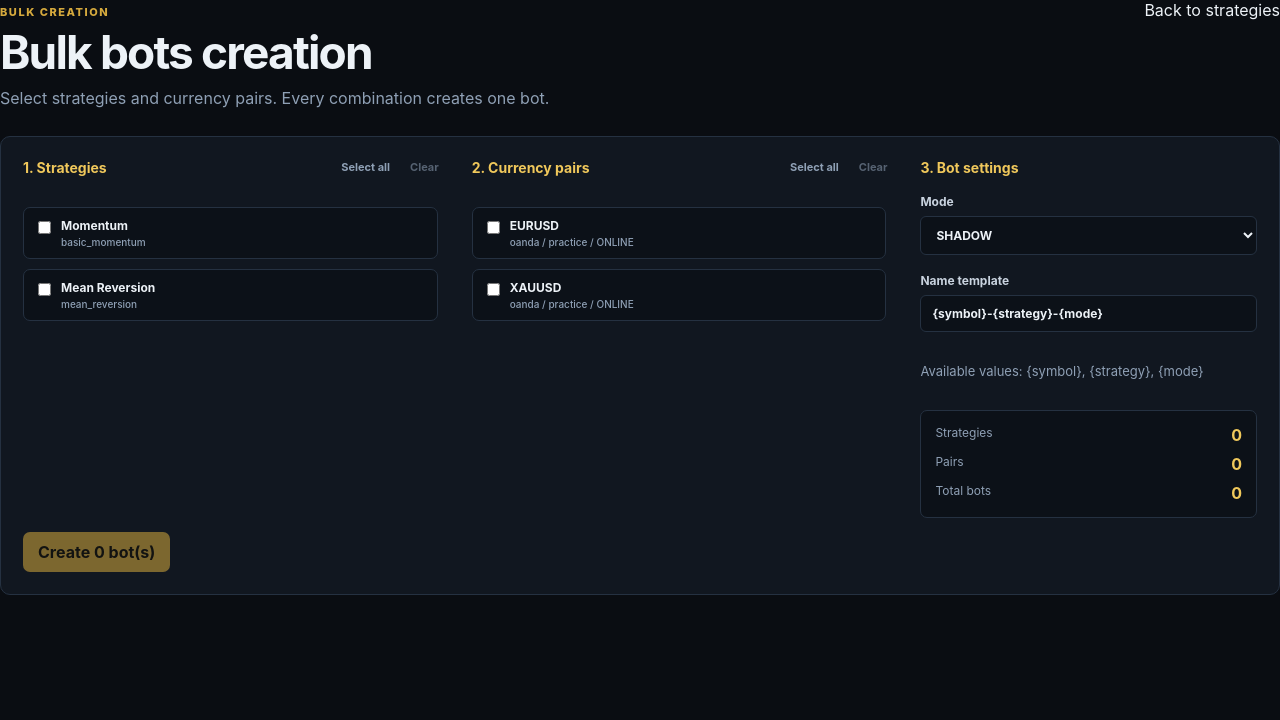
Test: BulkBotsCreationPage › creates every selected strategy and pair combination
The width and height of the screenshot is (1280, 720).
Check: the text "Momentum" is shown, box x1=61 y1=218 x2=128 y2=233
Click the button "Select all" in the row of "1. Strategies". click: (366, 167)
box: x1=336 y1=159 x2=395 y2=175
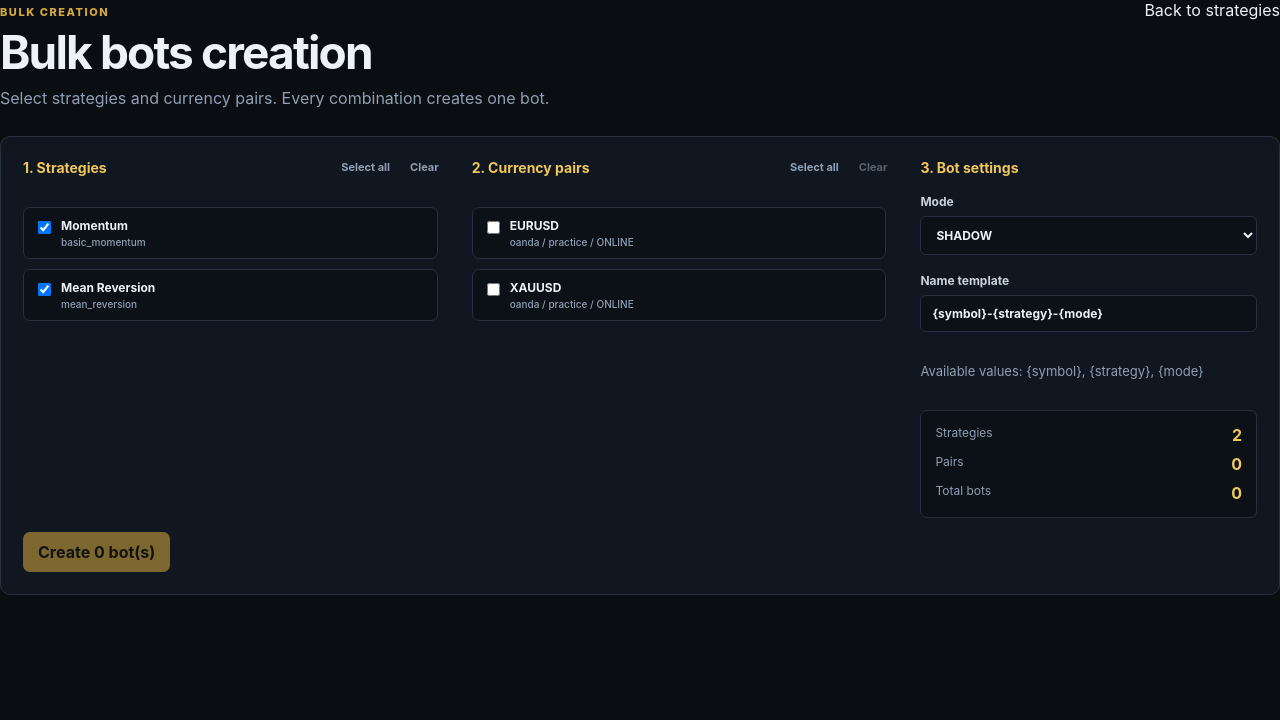
Click the button "Select all" in the row of "2. Currency pairs". click: (814, 167)
box: x1=785 y1=159 x2=844 y2=175
(page scrolled)
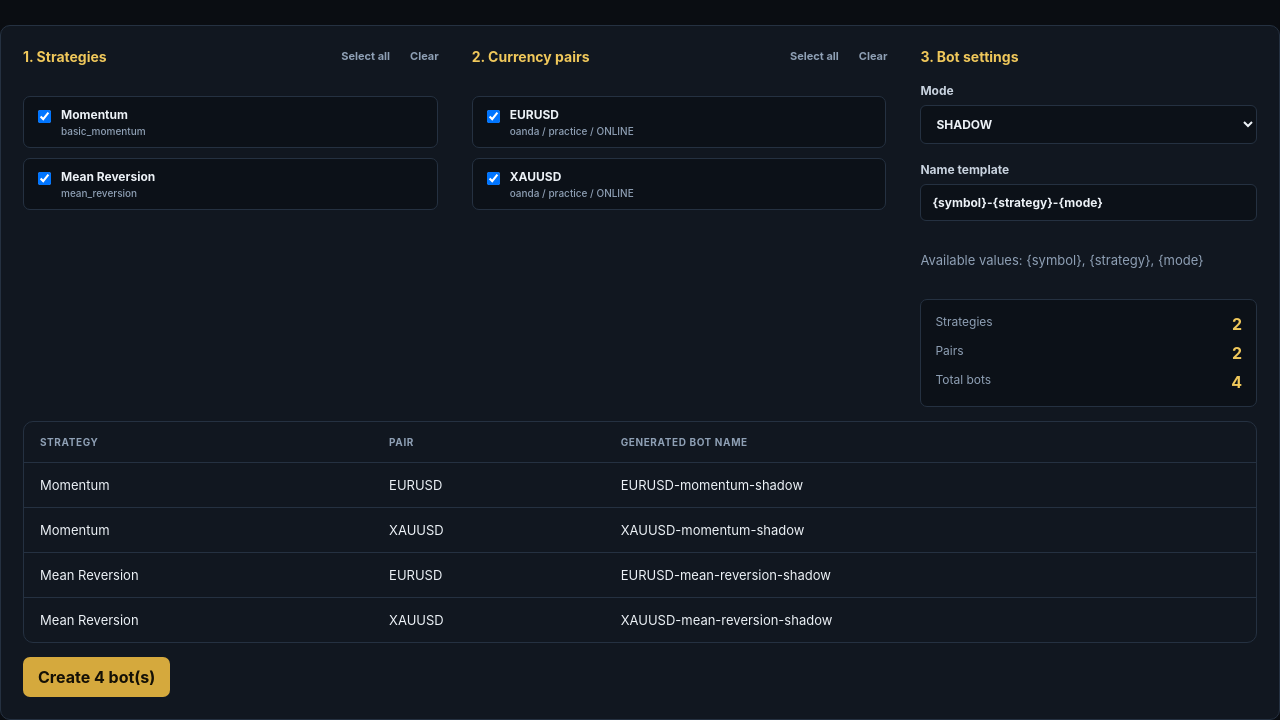
Check: the button "Create 4 bot(s)" is enabled
Check: the text "EURUSD-momentum-shadow" is shown, box x1=605 y1=462 x2=1256 y2=508
Check: the text "XAUUSD-mean-reversion-shadow" is shown, box x1=605 y1=598 x2=1256 y2=642
Click the button "Create 4 bot(s)". click: (97, 677)
box: x1=23 y1=657 x2=170 y2=697
(page scrolled)
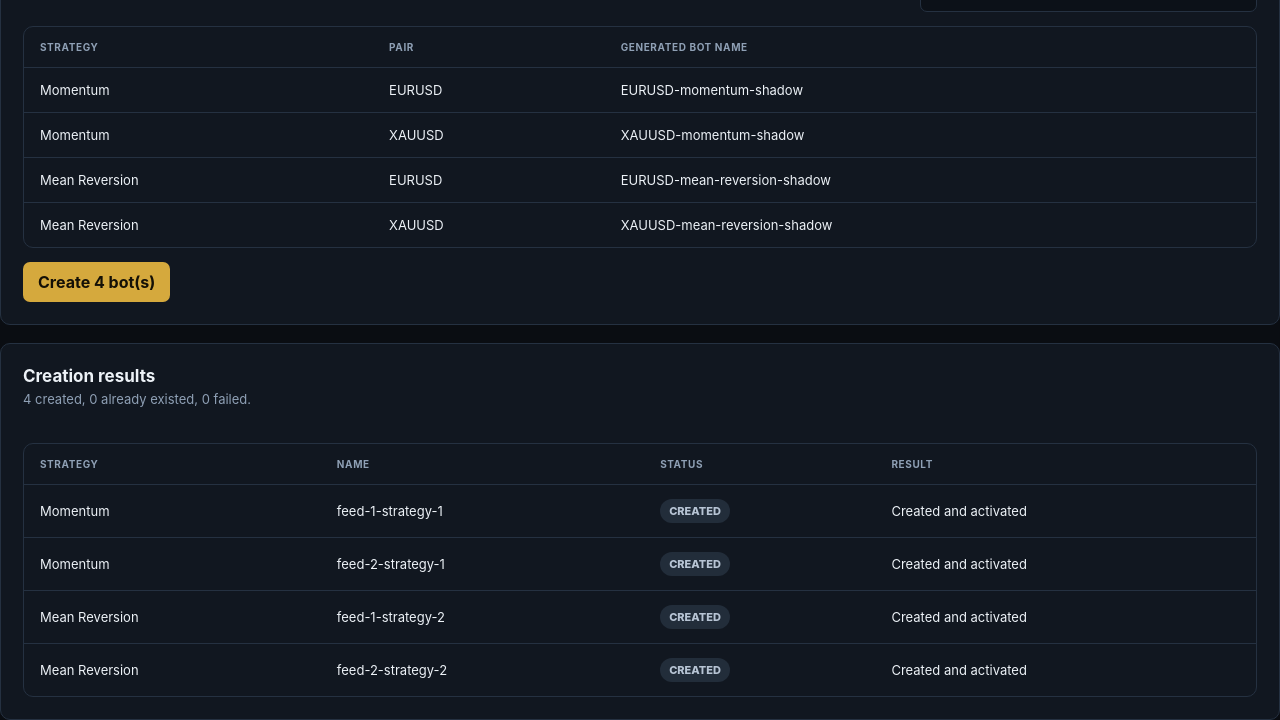
Check: the text "4 created, 0 already existed, 0 failed." is shown, box x1=23 y1=391 x2=251 y2=407
